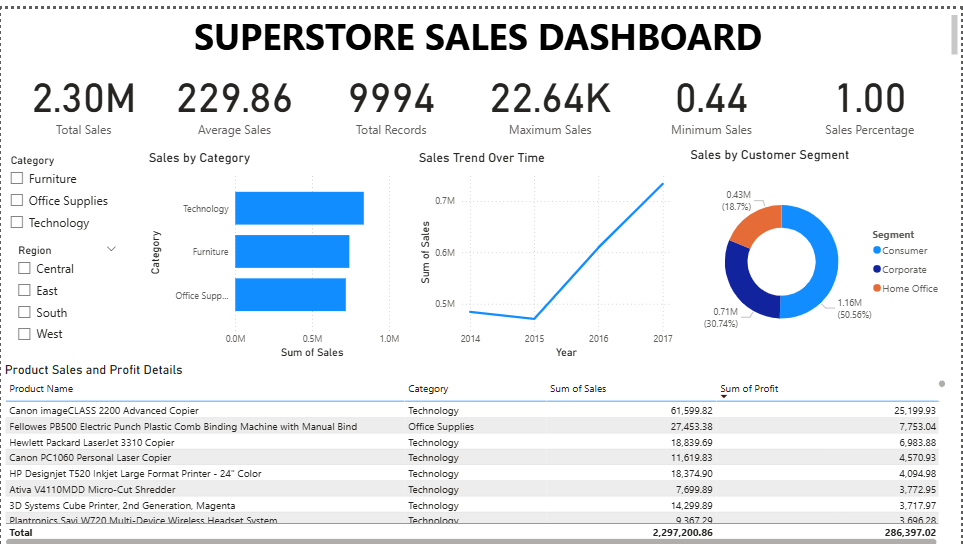

This screenshot's page, from the dashboard's own definition file:
{"tool":"powerbi","page":{"name":"Page 1","canvas":[1280,720],"ordinal":0},"visuals":[{"type":"card","fields":{"Values":["Sample - Superstore.Total Sales"]},"box":[10,54,200,134],"z":0},{"type":"card","fields":{"Values":["Sample - Superstore.Average Sales"]},"box":[210,54,202,134],"z":1000},{"type":"card","fields":{"Values":["Sample - Superstore.Total Records"]},"box":[412,54,216,134],"z":2000},{"type":"card","fields":{"Values":["Sample - Superstore.Maximum Sales"]},"box":[628,54,208,134],"z":3000},{"type":"card","fields":{"Values":["Sample - Superstore.Minimum Sales"]},"box":[842,54,210,134],"z":4000},{"type":"card","fields":{"Values":["Sample - Superstore.Sales Percentage"]},"box":[1052,54,212,134],"z":5000},{"type":"clusteredBarChart","title":"Sales by Category","fields":{"Category":["Sample - Superstore.Category"],"Y":["Sum(Sample - Superstore.Sales)"]},"box":[192,188,344,282],"z":6000},{"type":"lineChart","title":"Sales Trend Over Time","fields":{"Category":["Sample - Superstore.Order Date.Variation.Date Hierarchy.Year"],"Y":["Sum(Sample - Superstore.Sales)"]},"box":[552,188,348,282],"z":7000},{"type":"donutChart","title":"Sales by Customer Segment","fields":{"Category":["Sample - Superstore.Segment"],"Y":["Sum(Sample - Superstore.Sales)"]},"box":[914,184,350,286],"z":8000},{"type":"tableEx","title":"Product Sales and Profit Details","fields":{"Values":["Sample - Superstore.Product Name","Sample - Superstore.Category","Sum(Sample - Superstore.Sales)","Sum(Sample - Superstore.Profit)"]},"box":[0,470,1264,250],"z":9000},{"type":"slicer","fields":{"Values":["Sample - Superstore.Category"]},"box":[0,188,174,120],"z":10000},{"type":"slicer","fields":{"Values":["Sample - Superstore.Region"]},"box":[10,308,156,146],"z":11000},{"type":"textbox","box":[0,0,1280,68],"z":11001}]}

Visuals, with their boxes in screenshot pixels (x1, y1, x2, y2), scaled from the page's 1280x720 canvas onto the 963x544 screenshot:
card - Sample - Superstore.Total Sales: <bbox>8, 41, 158, 142</bbox>
card - Sample - Superstore.Average Sales: <bbox>158, 41, 310, 142</bbox>
card - Sample - Superstore.Total Records: <bbox>310, 41, 472, 142</bbox>
card - Sample - Superstore.Maximum Sales: <bbox>472, 41, 629, 142</bbox>
card - Sample - Superstore.Minimum Sales: <bbox>633, 41, 791, 142</bbox>
card - Sample - Superstore.Sales Percentage: <bbox>791, 41, 951, 142</bbox>
"Sales by Category" clusteredBarChart: <bbox>144, 142, 403, 355</bbox>
"Sales Trend Over Time" lineChart: <bbox>415, 142, 677, 355</bbox>
"Sales by Customer Segment" donutChart: <bbox>688, 139, 951, 355</bbox>
"Product Sales and Profit Details" tableEx: <bbox>0, 355, 951, 543</bbox>
slicer - Sample - Superstore.Category: <bbox>0, 142, 131, 233</bbox>
slicer - Sample - Superstore.Region: <bbox>8, 233, 125, 343</bbox>
textbox: <bbox>0, 0, 962, 51</bbox>
